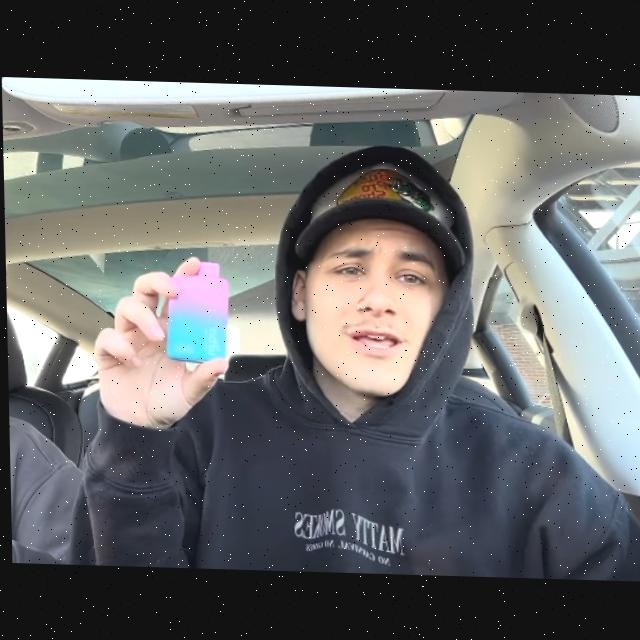vape: (163, 260, 229, 363)
